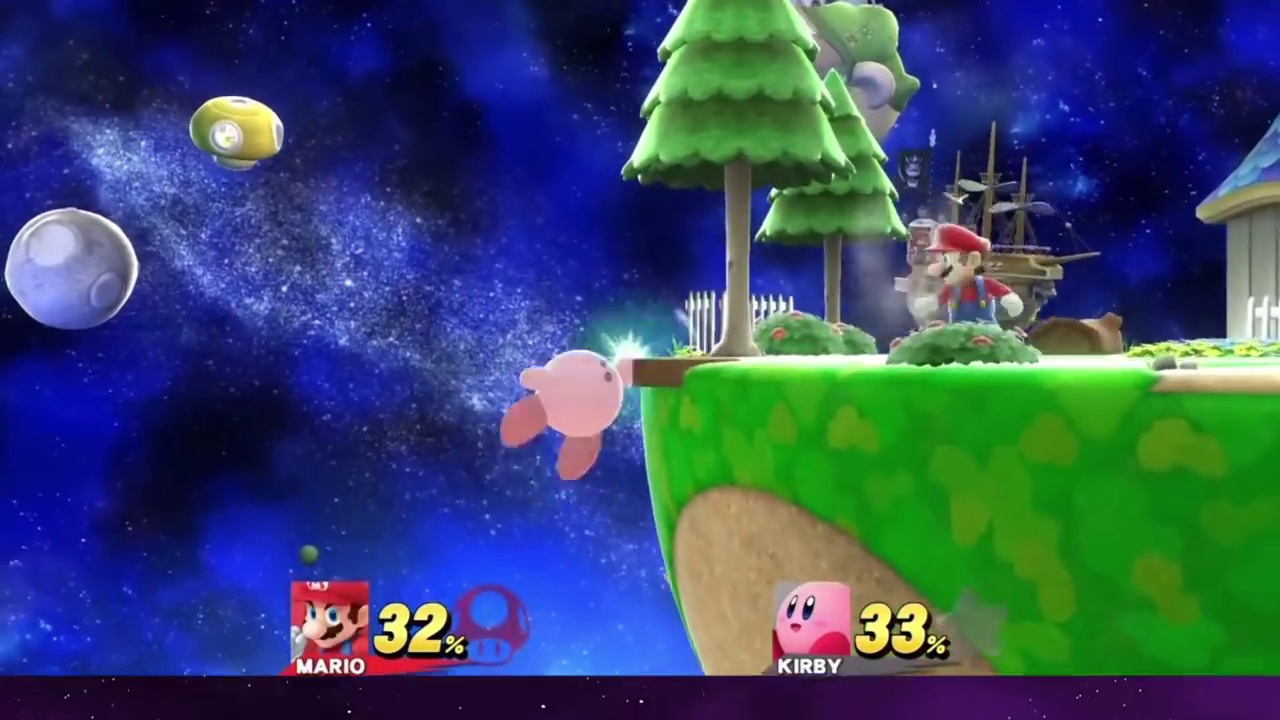Mario: (912, 225, 1024, 326)
